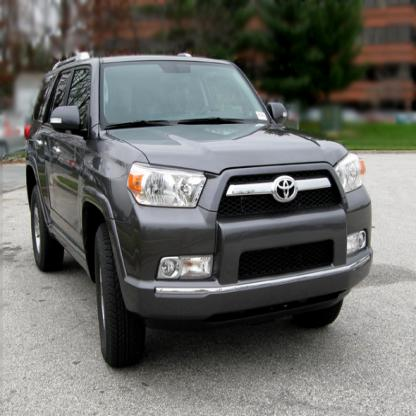Vehicle: (24, 49, 374, 372)
